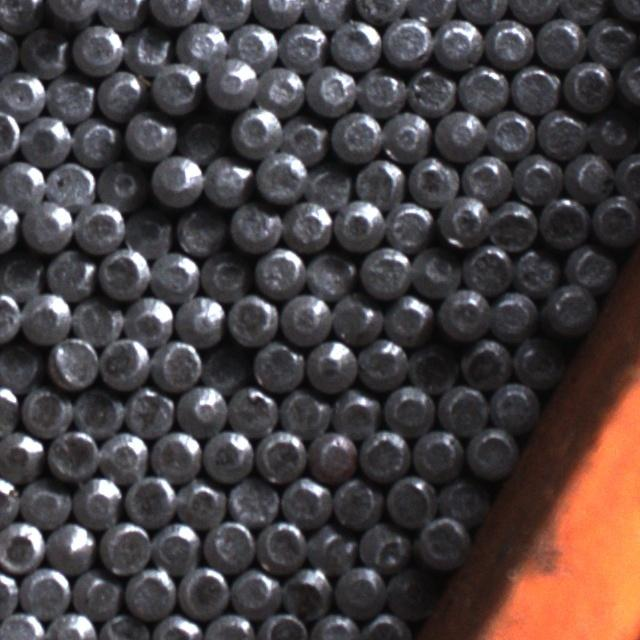tool: (412, 515, 470, 570), (204, 55, 259, 110), (435, 192, 489, 246), (436, 285, 488, 341), (150, 154, 203, 208), (254, 428, 307, 482), (149, 59, 201, 114), (406, 154, 459, 207), (100, 520, 152, 574), (96, 246, 148, 300), (124, 472, 176, 526), (96, 430, 150, 482), (201, 429, 253, 482), (177, 565, 229, 618), (329, 111, 382, 163), (254, 150, 306, 203), (98, 334, 148, 389), (150, 430, 202, 482), (70, 568, 122, 620), (123, 111, 175, 163), (411, 427, 463, 479), (46, 520, 98, 572), (199, 248, 251, 300), (71, 388, 123, 440), (46, 336, 98, 388), (226, 384, 278, 436), (230, 106, 282, 158), (282, 198, 334, 250), (305, 340, 357, 392), (461, 336, 513, 388), (537, 197, 589, 249), (385, 566, 437, 618), (73, 201, 124, 254), (124, 566, 175, 619), (226, 293, 277, 346), (280, 291, 331, 344), (256, 518, 307, 571), (69, 295, 122, 346), (543, 282, 596, 333), (513, 335, 564, 388), (46, 428, 96, 482), (20, 114, 71, 166), (176, 292, 227, 344), (228, 200, 280, 251), (123, 293, 174, 345), (122, 386, 174, 437), (253, 245, 304, 297), (305, 64, 356, 116), (71, 22, 122, 74), (71, 475, 122, 527), (204, 518, 255, 570), (330, 293, 382, 344), (252, 340, 303, 392), (409, 245, 460, 297), (20, 292, 71, 344), (151, 338, 201, 391), (562, 58, 612, 111), (434, 108, 485, 159), (176, 477, 227, 528), (333, 199, 384, 250), (383, 474, 434, 525), (124, 208, 175, 259), (19, 566, 69, 618), (44, 248, 96, 298), (18, 478, 70, 528), (20, 200, 70, 252), (487, 289, 537, 341), (438, 382, 488, 434), (463, 242, 513, 294), (284, 564, 334, 616), (95, 68, 145, 119), (328, 18, 379, 68), (358, 247, 409, 297), (175, 206, 226, 256), (177, 382, 228, 432), (384, 382, 435, 432), (358, 429, 408, 480), (20, 386, 70, 437), (331, 387, 381, 438), (381, 110, 431, 161), (279, 388, 330, 438), (200, 343, 250, 394), (359, 337, 409, 388), (512, 151, 562, 202), (177, 111, 227, 162), (335, 564, 385, 615), (466, 427, 516, 478), (407, 340, 458, 390), (433, 479, 484, 529), (19, 26, 68, 78), (591, 194, 640, 246), (331, 476, 381, 526), (45, 158, 95, 208), (360, 521, 410, 571), (406, 66, 456, 116), (458, 64, 508, 114), (230, 567, 280, 617), (308, 428, 358, 478), (150, 520, 200, 570), (149, 250, 199, 300), (354, 157, 405, 206), (383, 15, 432, 66), (280, 475, 331, 524), (203, 157, 252, 208), (227, 19, 276, 70), (123, 22, 174, 71), (307, 522, 358, 571), (384, 200, 433, 250), (433, 18, 482, 68), (536, 109, 586, 158), (356, 66, 406, 115), (278, 115, 328, 164), (305, 249, 356, 297), (536, 15, 584, 66), (488, 199, 536, 250), (486, 107, 535, 156), (463, 151, 512, 200), (565, 150, 614, 199), (565, 242, 614, 291), (490, 380, 539, 429), (384, 292, 432, 342), (586, 14, 634, 64), (228, 476, 278, 524), (96, 158, 144, 208), (177, 19, 227, 67), (510, 64, 558, 113), (278, 21, 326, 70), (71, 116, 119, 165), (0, 252, 45, 304), (47, 72, 95, 120), (485, 18, 533, 66), (587, 110, 635, 158), (259, 63, 305, 113), (0, 429, 43, 482), (511, 247, 559, 294), (0, 68, 45, 118), (0, 520, 43, 572), (306, 162, 353, 209), (0, 159, 44, 208), (0, 342, 43, 392), (45, 609, 96, 640), (256, 610, 308, 640), (362, 610, 414, 640), (202, 611, 255, 640), (309, 610, 359, 640), (201, 0, 252, 28), (98, 612, 149, 640), (150, 613, 202, 640), (95, 0, 145, 28), (0, 609, 43, 640), (45, 0, 96, 26), (303, 0, 352, 27), (254, 0, 304, 26), (148, 0, 200, 25), (615, 56, 640, 108), (614, 151, 640, 201), (0, 0, 41, 31), (406, 0, 456, 23), (354, 0, 406, 22), (0, 290, 21, 344), (456, 0, 506, 22), (559, 0, 608, 22), (509, 0, 559, 21)
